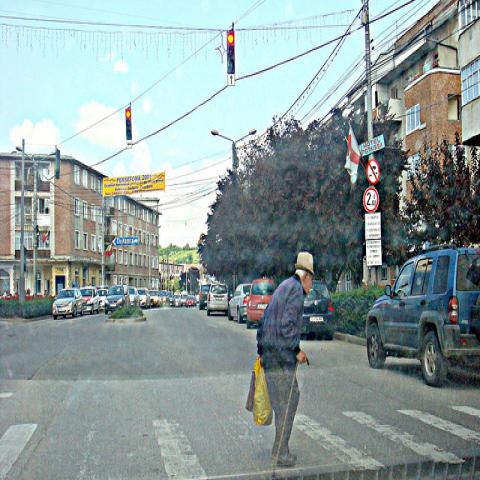car: (364, 245, 480, 389), (98, 284, 200, 310), (300, 284, 340, 340), (246, 279, 275, 329), (228, 282, 252, 325), (52, 289, 84, 321), (206, 284, 228, 316), (104, 286, 126, 314), (80, 284, 100, 314), (304, 278, 327, 302), (200, 285, 209, 309), (149, 290, 160, 306), (185, 295, 196, 308), (168, 292, 176, 306)
